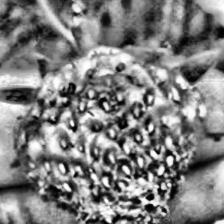Gray Mold: (10, 45, 217, 224)
